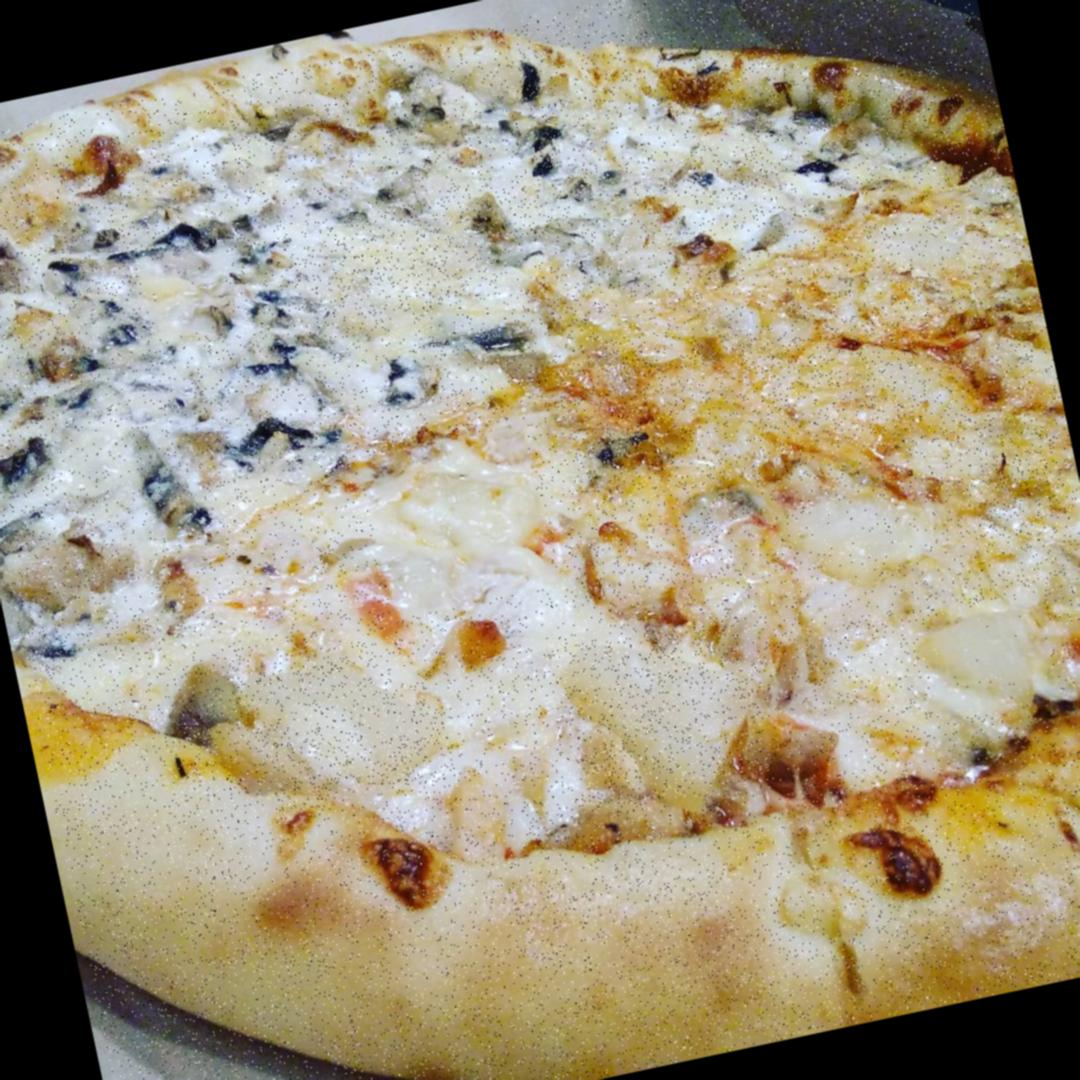Cheese: (360, 424, 558, 620), (271, 186, 504, 342), (550, 326, 729, 511), (736, 301, 932, 455), (133, 482, 332, 626), (636, 116, 806, 248), (953, 404, 1077, 560), (871, 178, 1026, 299), (464, 106, 609, 231), (54, 365, 196, 492), (139, 246, 232, 340)
Pineapple: (554, 614, 771, 814), (236, 638, 456, 818), (778, 472, 959, 625), (918, 596, 1059, 723)
Pizza: (0, 0, 1080, 1080)
